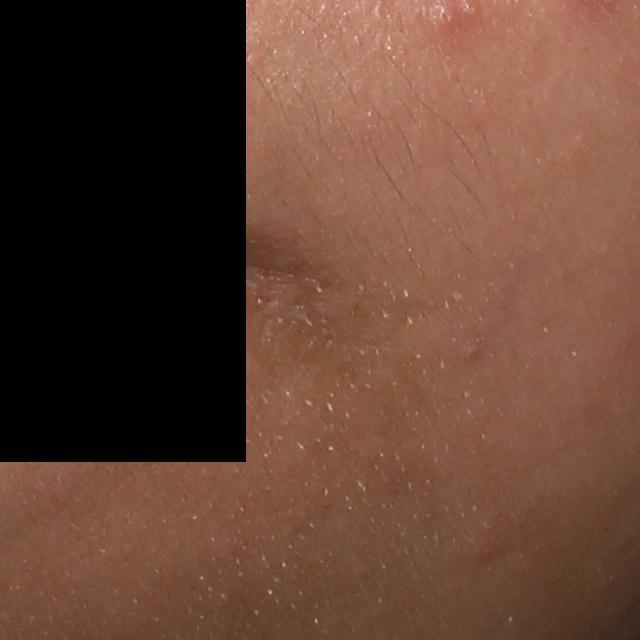comedo: (455, 337, 483, 363)
